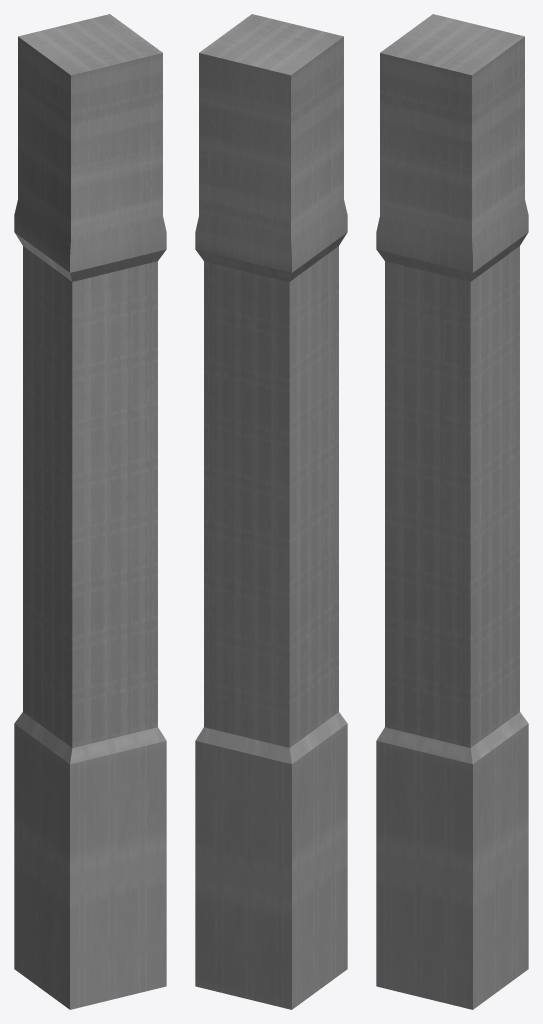
Rendered from pillar1.fbx.
The picture shows the model from 3 angles, left to right: view 1: azimuth 30°, elevation 25°; view 2: azimuth 150°, elevation 25°; view 3: azimuth 330°, elevation 25°; orthographic projection.
Visible parts, largest first — view 1: pillar; view 2: pillar; view 3: pillar.
Part boxes in pixels (x1=…): pillar: x1=14, y1=14, x2=166, y2=1009; pillar: x1=195, y1=14, x2=347, y2=1009; pillar: x1=376, y1=14, x2=528, y2=1009.
Bounding box in the file's own units: 173 × 1600 × 173.
